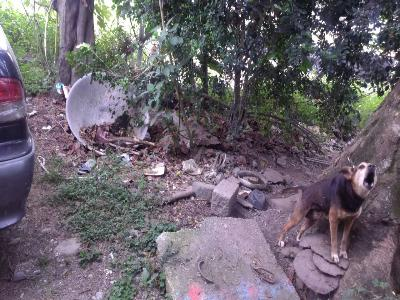bowl: (64, 68, 152, 156)
